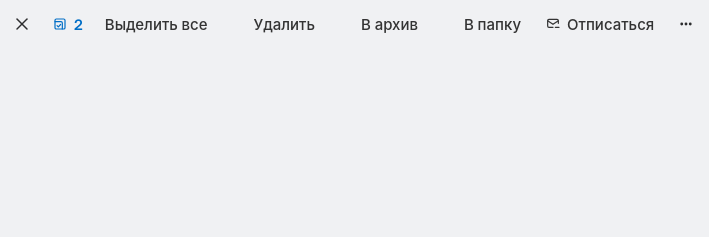
меню «В папку» › показывает русские названия папок, а не имена IMAP
The width and height of the screenshot is (709, 237).
Step 1. Click the button "В папку" → click(482, 24), box [432, 6, 531, 42]
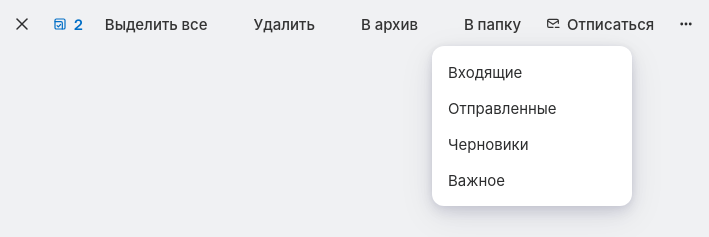
Check: the menu is shown, box [432, 46, 632, 206]
Check: the menu shows "Входящие", box [432, 54, 632, 90]
Check: the menu shows "Отправленные", box [432, 90, 632, 126]
